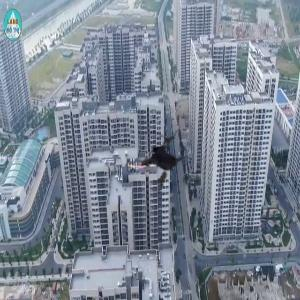drone: (116, 119, 194, 197)
